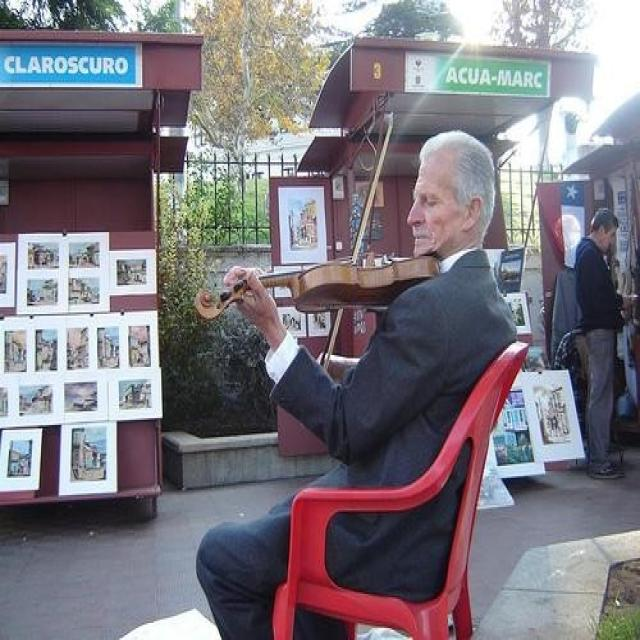violin: (191, 245, 443, 322)
